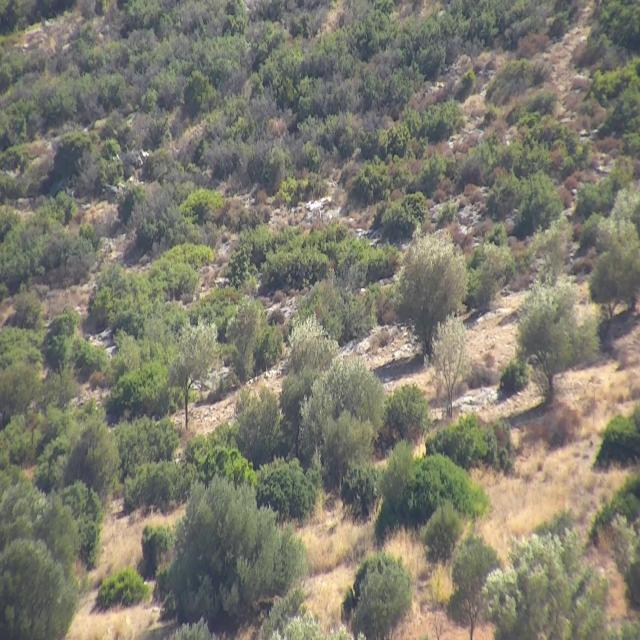drone: (302, 193, 332, 219)
